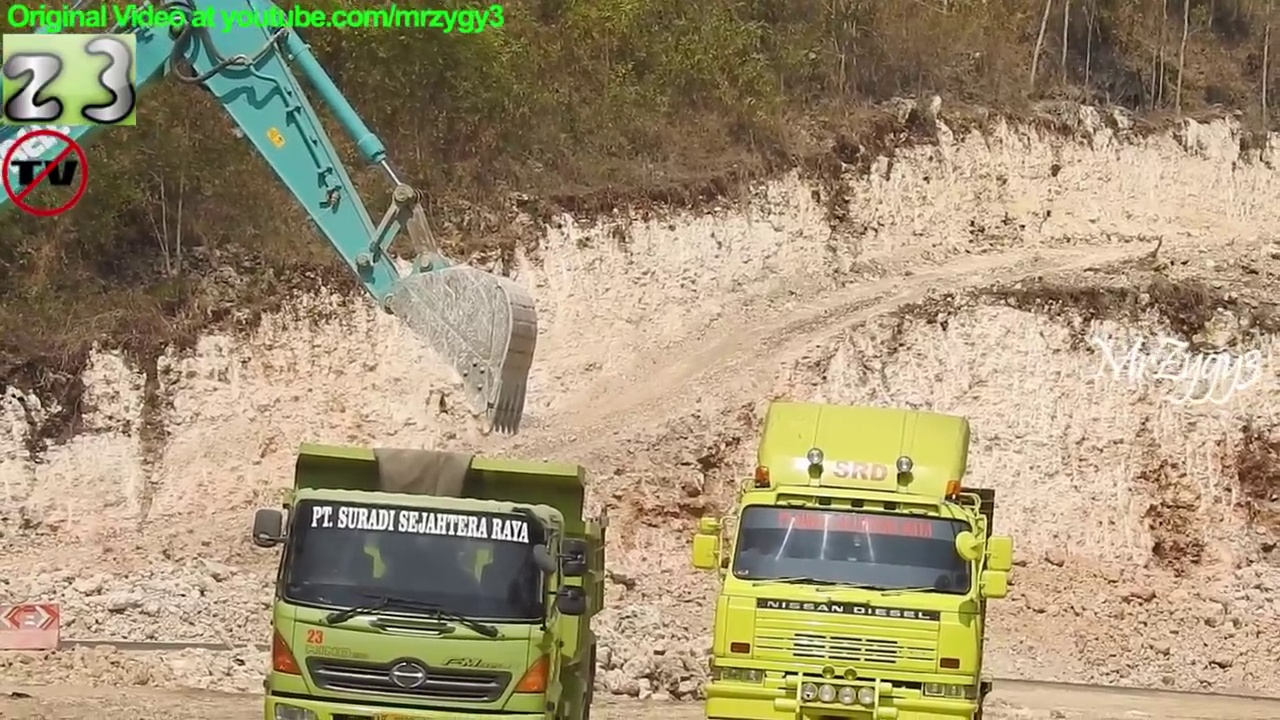excavator: (1, 1, 547, 443)
truck: (686, 392, 1024, 720), (248, 436, 619, 720)
